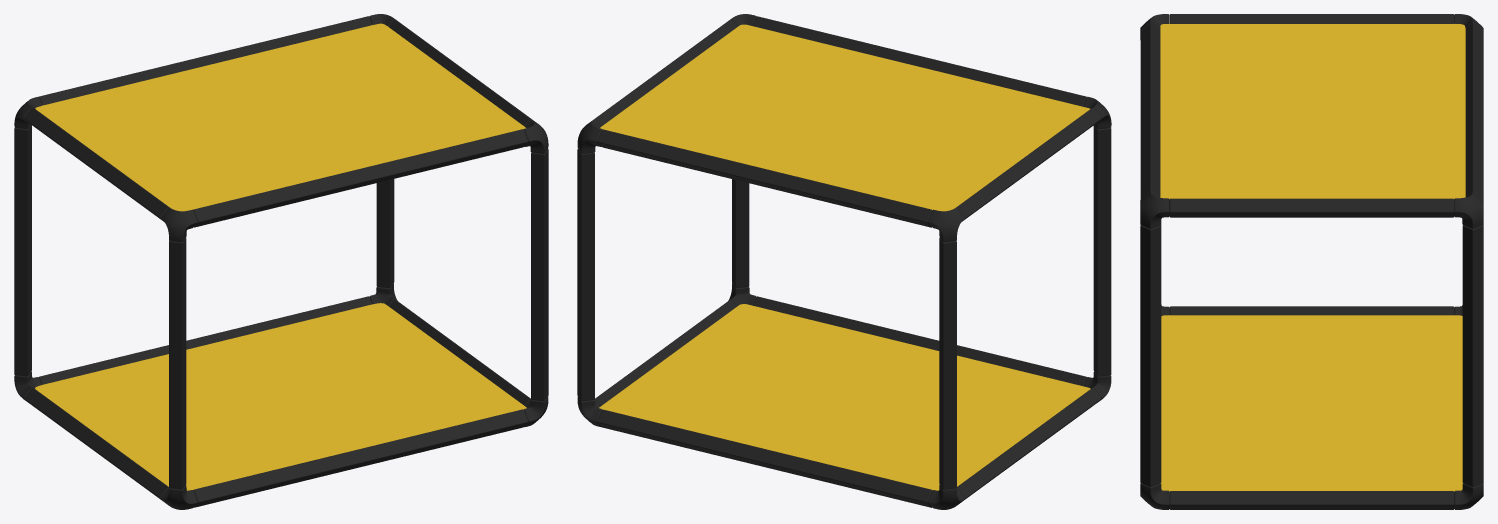
3 views of the same model, side by side, from view 1: azimuth 30°, elevation 25°; view 2: azimuth 150°, elevation 25°; view 3: azimuth 270°, elevation 25° (orthographic). The views are drawn at different scales.
Parts seen in each view (by area): view 1: 523x374x374; view 2: 523x374x374; view 3: 523x374x374.
Boxes of the visible parts, bbox=[...] form: 523x374x374: bbox=[14, 14, 548, 509]; 523x374x374: bbox=[577, 14, 1111, 509]; 523x374x374: bbox=[1140, 14, 1483, 509].
Size of the model in its own units: 0.6007 by 0.4516 by 0.4513.
